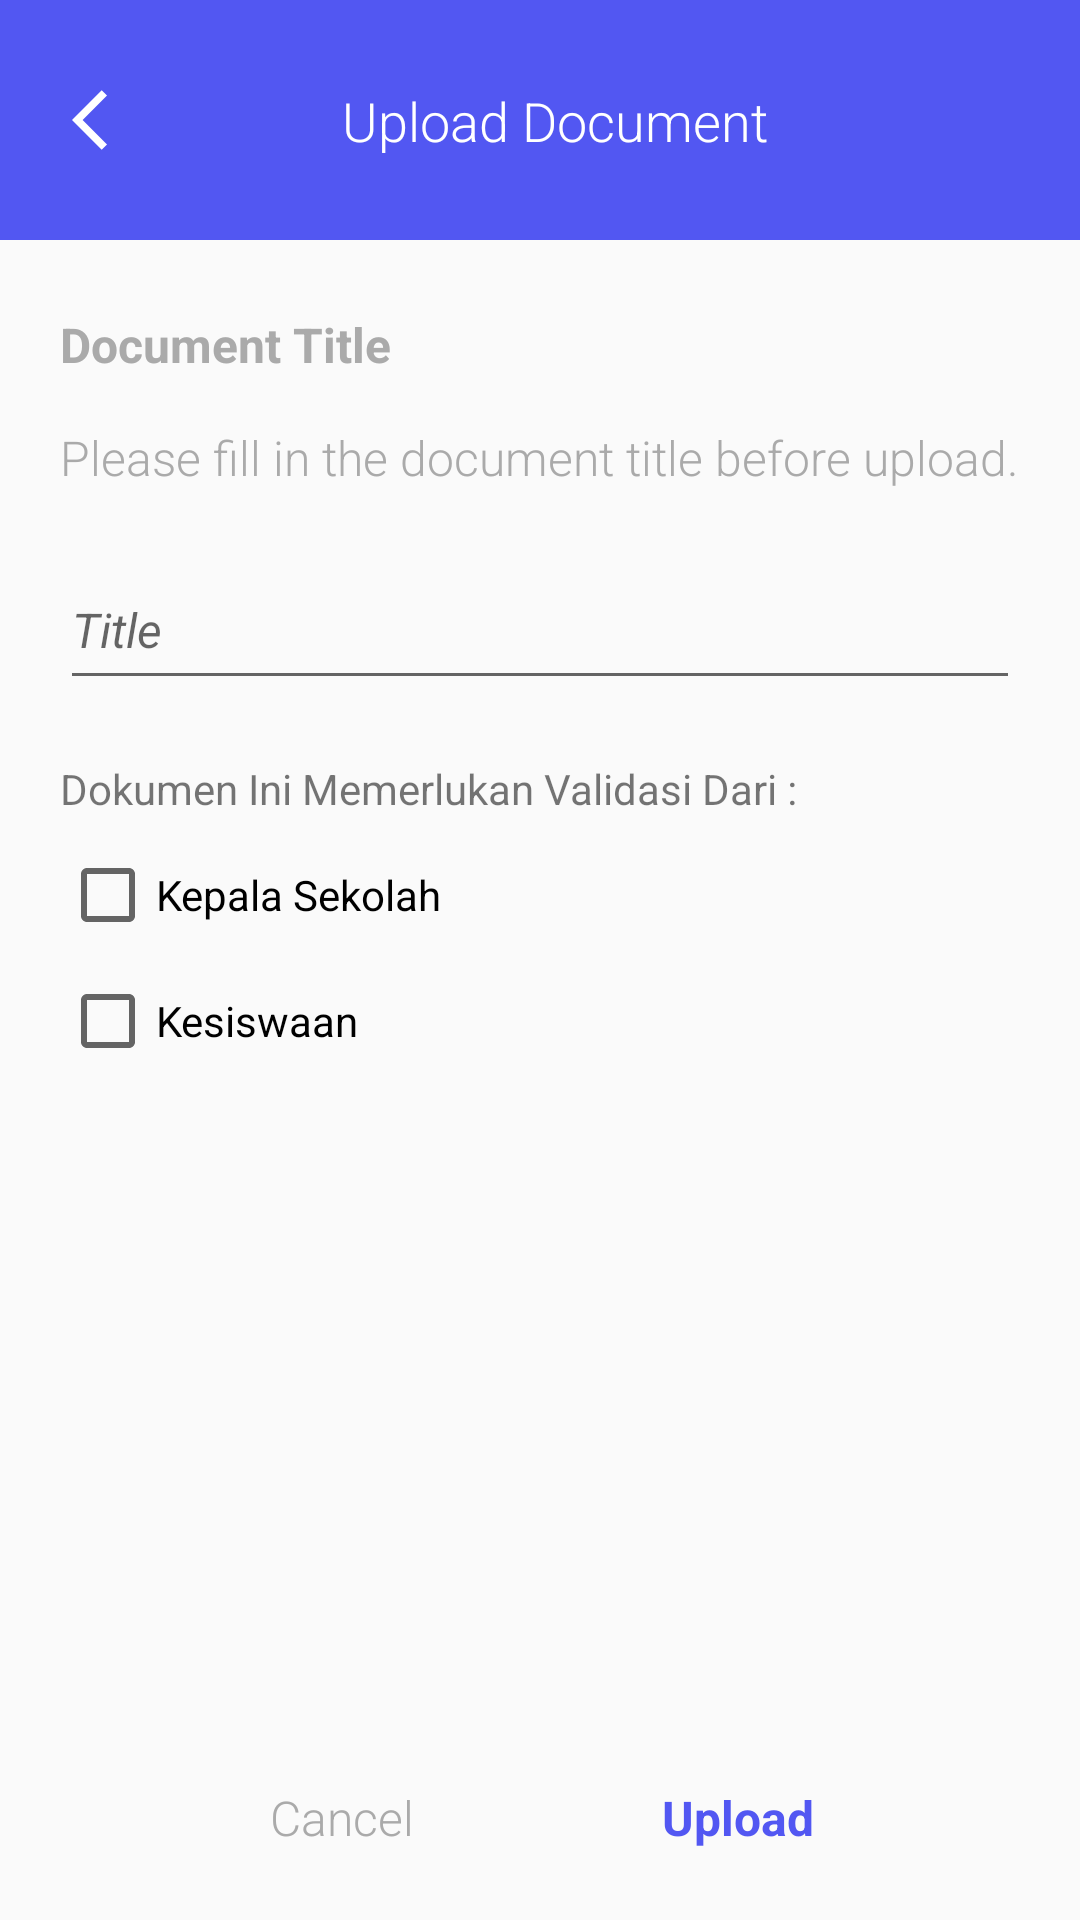

Icon click points for this 1080 × 1920 phone screenshot, format [x,y]:
back: [89,120]
